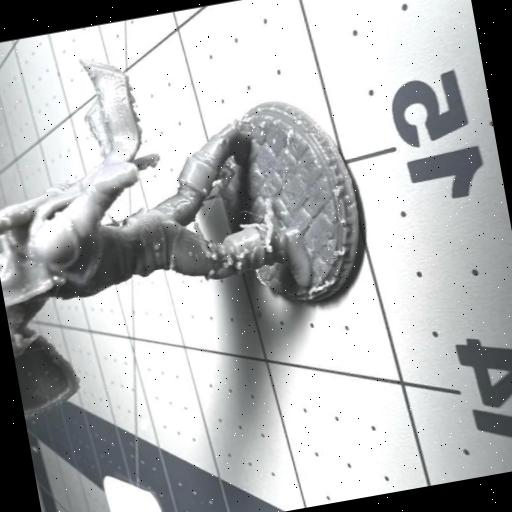blobs: (147, 236, 164, 254), (205, 264, 219, 282), (221, 252, 236, 268), (204, 236, 216, 250), (236, 247, 248, 259), (209, 250, 220, 262), (199, 184, 210, 195), (234, 260, 246, 270), (184, 248, 194, 258), (264, 242, 274, 252)
